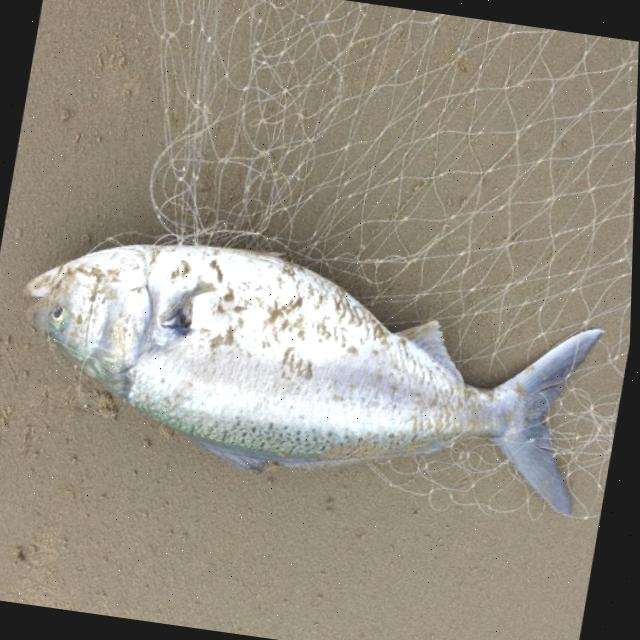Australian Salmon: (0, 173, 625, 545)
